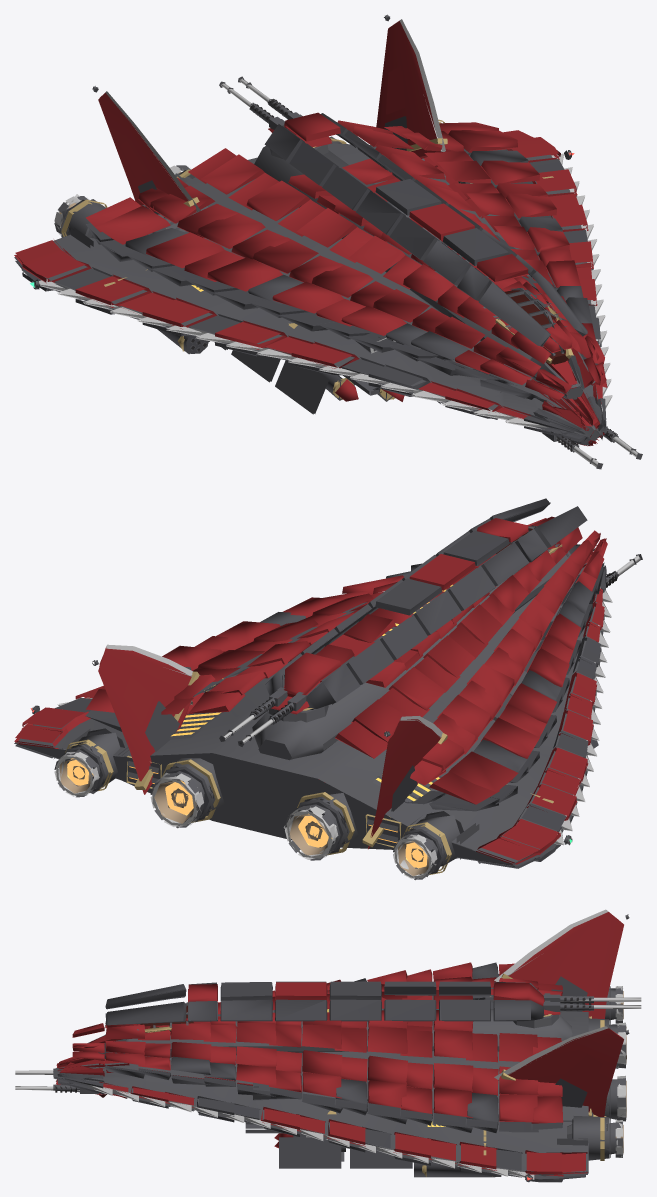
The model's file is enemy_fighter_b_lod.glb.
3 renders of one model, top to bottom at view 1: azimuth 30°, elevation 25°; view 2: azimuth 150°, elevation 25°; view 3: azimuth 270°, elevation 25°, orthographic. The views are drawn at different scales.
Visible parts, largest first — view 1: enemy_fighter_b; view 2: enemy_fighter_b; view 3: enemy_fighter_b.
Part boxes in pixels (x1=…): enemy_fighter_b: x1=14, y1=14, x2=642, y2=469; enemy_fighter_b: x1=14, y1=498, x2=642, y2=880; enemy_fighter_b: x1=15, y1=909, x2=641, y2=1182.
Size of the model in its own units: 9.32 by 3.25 by 11.52.
